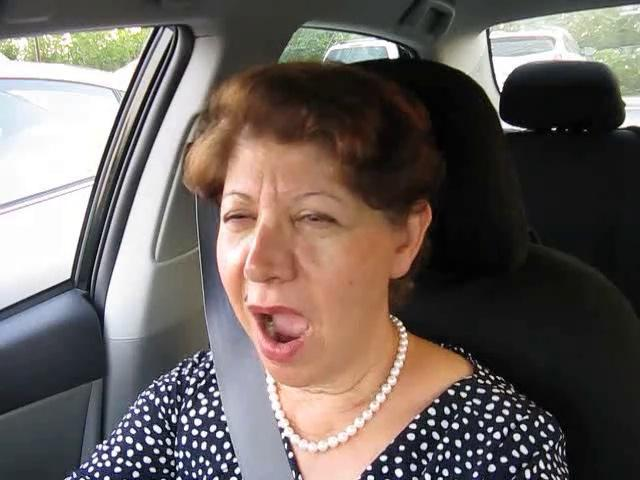close_eyeL: (210, 197, 270, 240)
close_eyeR: (278, 197, 354, 242)
yawn: (234, 293, 325, 365)
